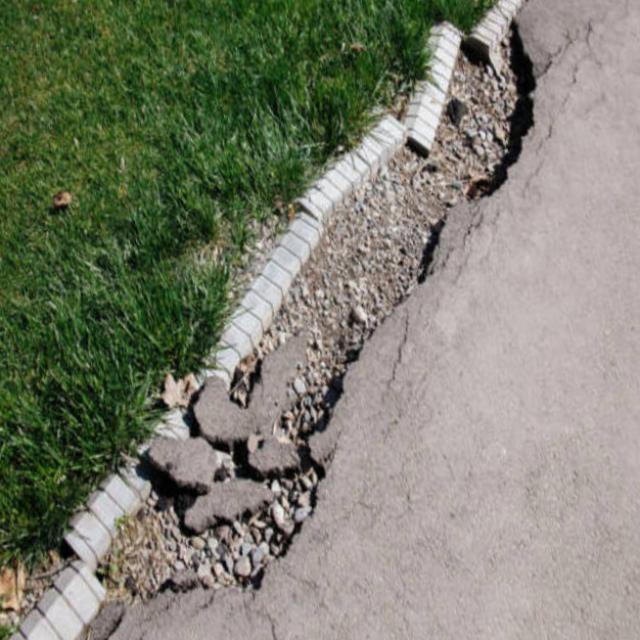Pinggir: (29, 0, 571, 613)
